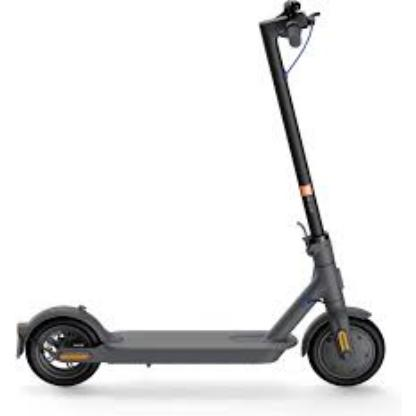bike: (5, 4, 386, 391)
